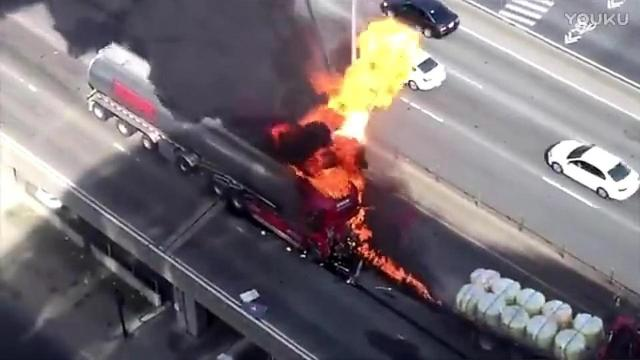fire: (270, 21, 419, 200), (346, 205, 433, 301)
smoke: (1, 1, 335, 169)
